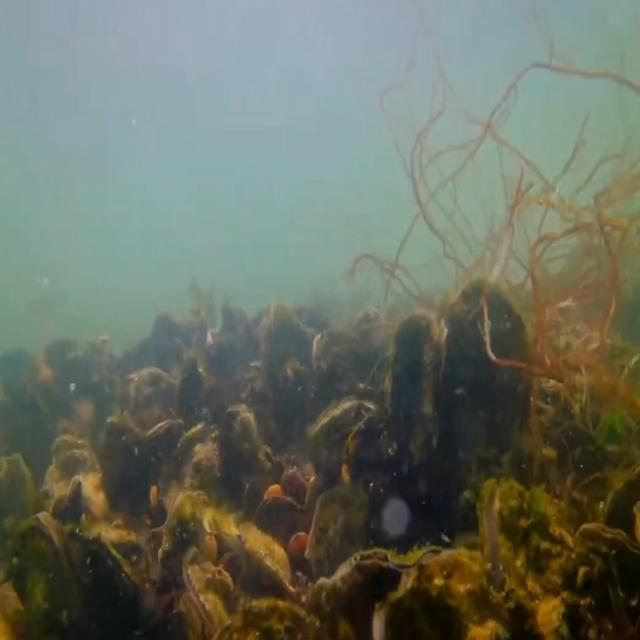Oyster-Closed: (68, 527, 155, 640), (561, 520, 640, 640), (159, 489, 209, 602), (183, 560, 228, 640), (53, 472, 83, 518)
Oyster-Indeterminate: (441, 280, 529, 473), (390, 312, 448, 472), (8, 512, 78, 640), (306, 484, 372, 578), (102, 413, 152, 520), (0, 453, 37, 564), (236, 522, 294, 589)
Oyster-Open: (476, 476, 575, 640), (305, 396, 385, 482), (171, 419, 221, 485)
